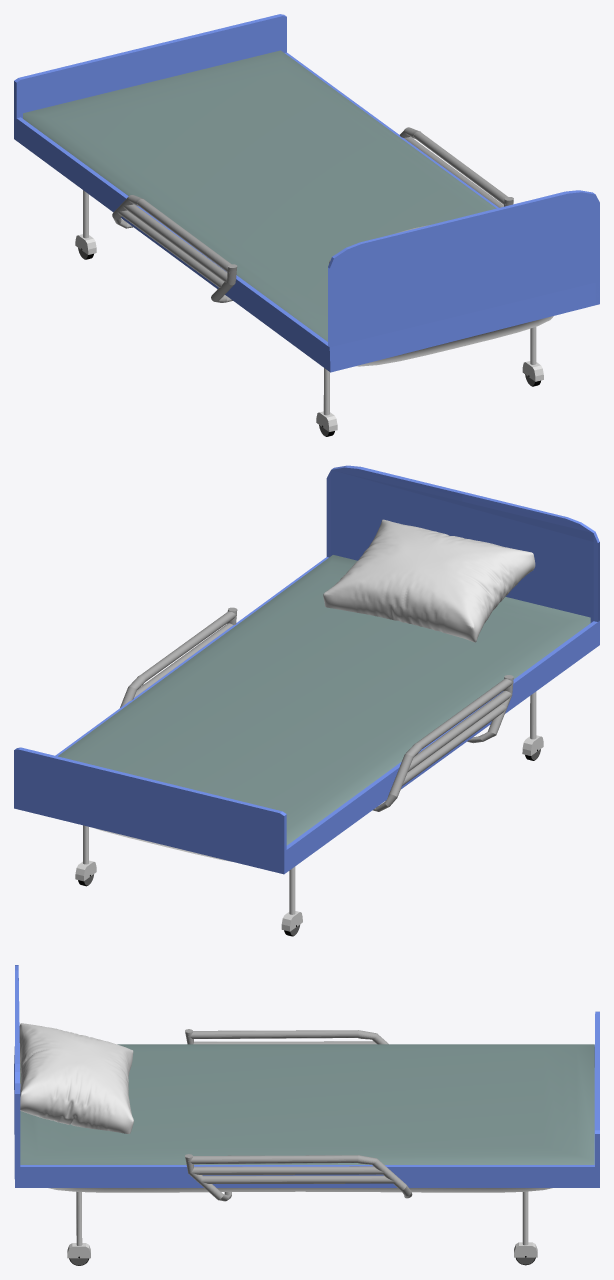
3 renders of one model, top to bottom at view 1: azimuth 30°, elevation 25°; view 2: azimuth 150°, elevation 25°; view 3: azimuth 270°, elevation 25°, orthographic. The views are drawn at different scales.
Visible parts, largest first — view 1: Cube, Куб.002, Cylinder.003, Plane, ОкружностьБезье; view 2: Cube, Куб.002, Cube.001, Cylinder.003, Plane; view 3: Cube, Куб.002, Cube.001, Cylinder.003, ОкружностьБезье, Plane.
Part boxes in pixels (x1,y1,x2,y2): Cube: (23, 50, 496, 341); Куб.002: (14, 14, 599, 372); Cylinder.003: (112, 127, 513, 302); Plane: (75, 190, 543, 436); ОкружностьБезье: (356, 316, 553, 366); Cube: (58, 555, 590, 845); Куб.002: (14, 465, 599, 874); Cube.001: (323, 519, 535, 642); Cylinder.003: (120, 607, 513, 811); Plane: (75, 691, 543, 936); Cube: (20, 1044, 594, 1164); Куб.002: (14, 965, 599, 1187); Cube.001: (19, 1023, 133, 1133); Cylinder.003: (185, 1029, 412, 1201); ОкружностьБезье: (48, 1188, 552, 1192); Plane: (67, 1191, 537, 1265).
Bounding box in the file's own units: 497 × 362 × 956.
